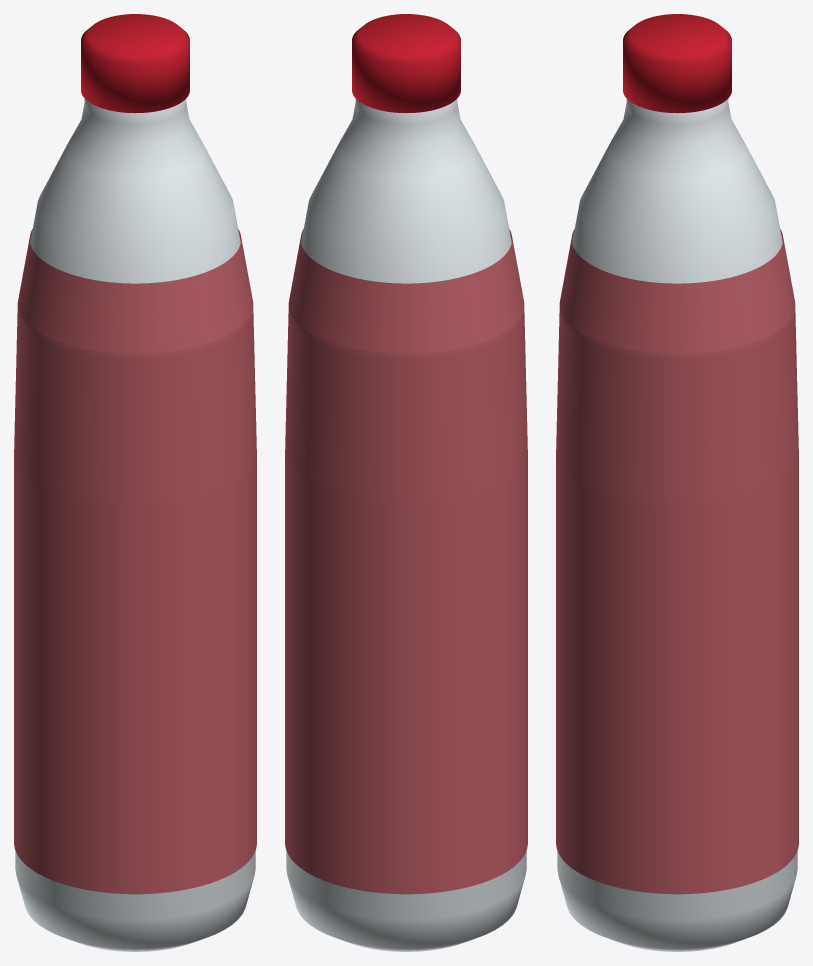
The model's file is soda_cherry_minimal.glb.
3 views of the same model, side by side, from view 1: azimuth 30°, elevation 25°; view 2: azimuth 150°, elevation 25°; view 3: azimuth 270°, elevation 25° (orthographic).
Parts seen in each view (by area): view 1: Label_band, Glass, Cap; view 2: Label_band, Glass, Cap; view 3: Label_band, Glass, Cap.
Part boxes in pixels (x1,y1,x2,y2): Label_band: (14, 229, 256, 894); Glass: (15, 99, 255, 951); Cap: (81, 14, 189, 113); Label_band: (285, 229, 527, 894); Glass: (286, 99, 526, 951); Cap: (352, 14, 460, 113); Label_band: (556, 229, 798, 894); Glass: (557, 99, 797, 951); Cap: (623, 14, 731, 113).
Bounding box in the file's own units: 0.0667 × 0.267 × 0.0667.
